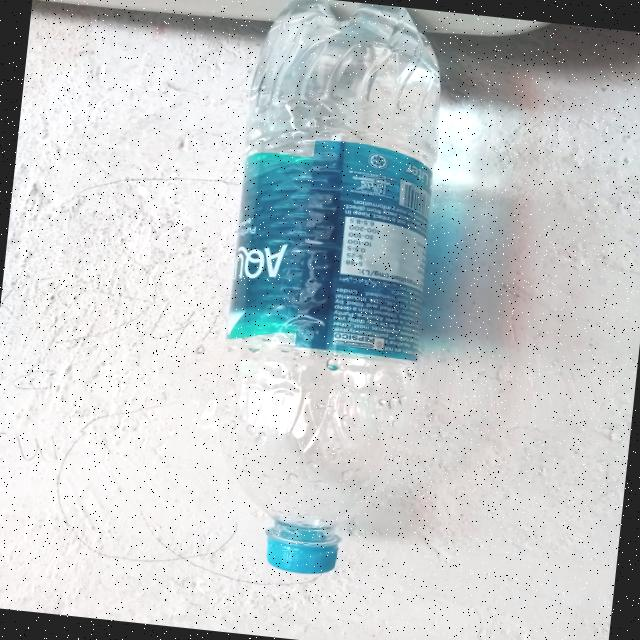bottle: (180, 0, 466, 592)
cap: (258, 521, 344, 581)
label: (213, 132, 458, 376)
